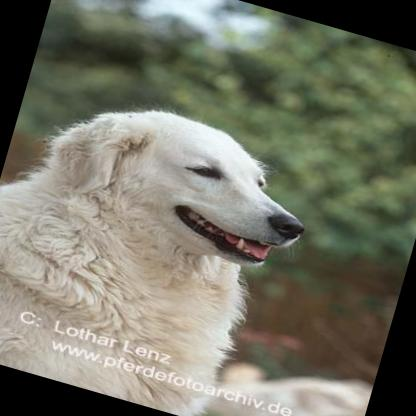kuvasz: (0, 69, 327, 416)
